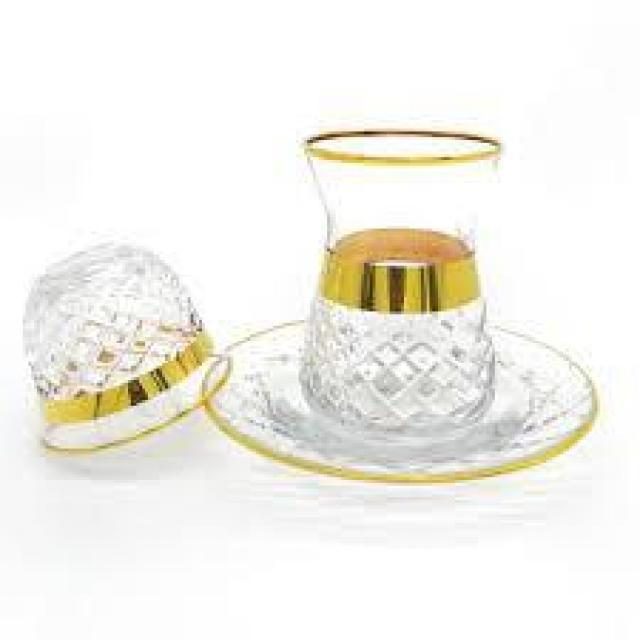glass: (199, 124, 603, 490), (22, 246, 228, 454)
